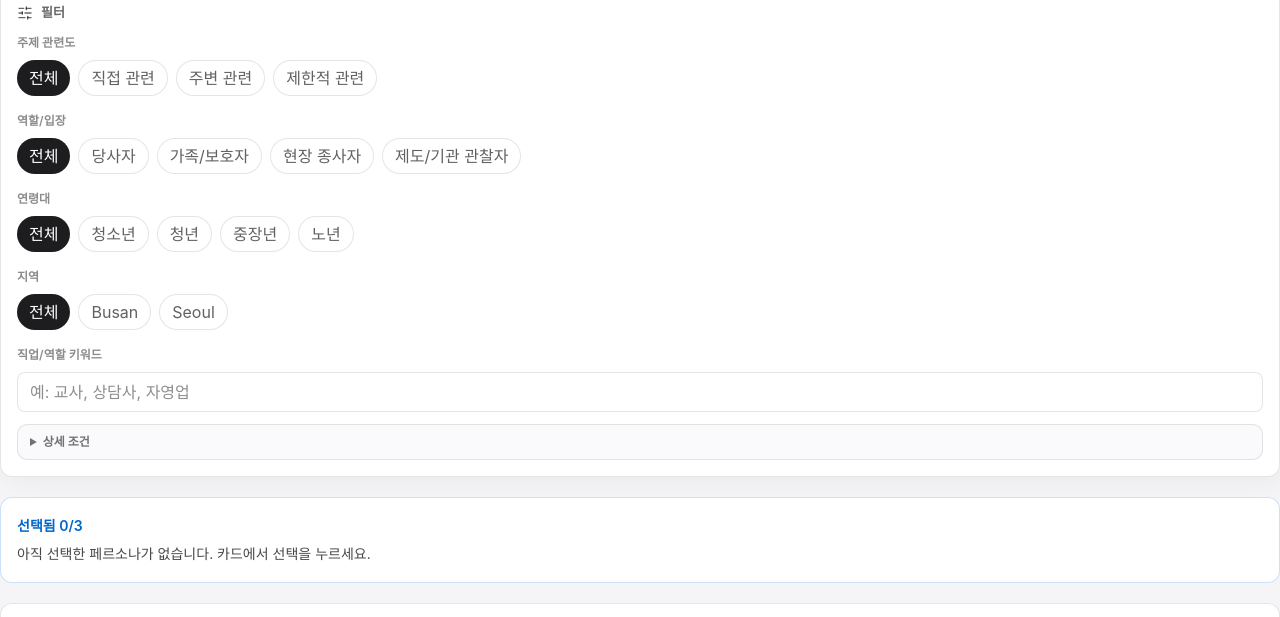
Test: offers full-index persona search only after filters are targeted enough for the live index
The image size is (1280, 617).
In the field with placeholder "예: 교사, 상담사, 자영업": coordinates (640, 392) [17,372,1263,412], type "teacher"
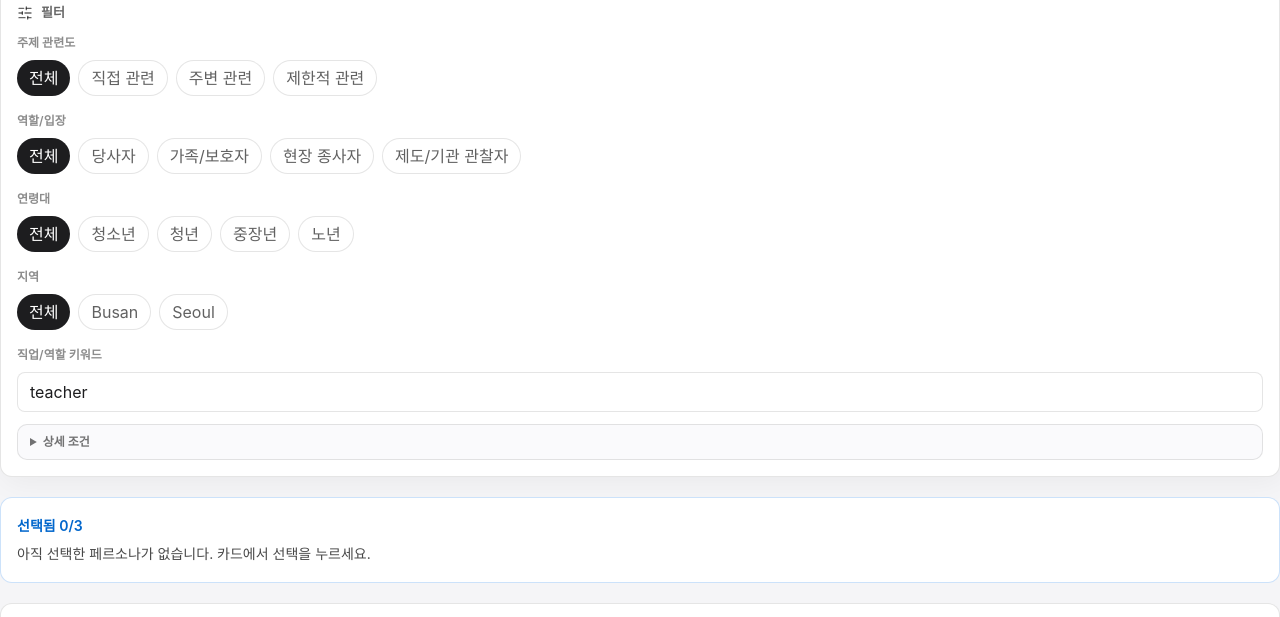
Expected: the button "전체 색인에서 더 찾아보기" is not shown
Click the button "청년": coordinates (184, 234) [157,216,212,252]
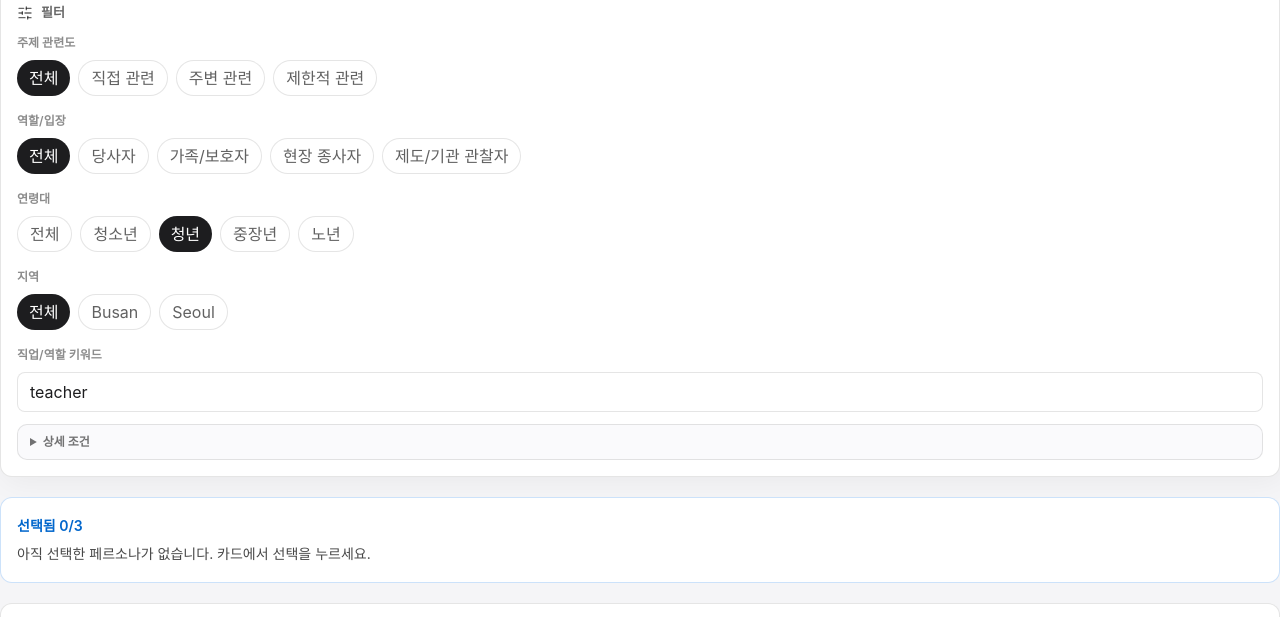
Click the button "Seoul": coordinates (194, 312) [159,294,228,330]
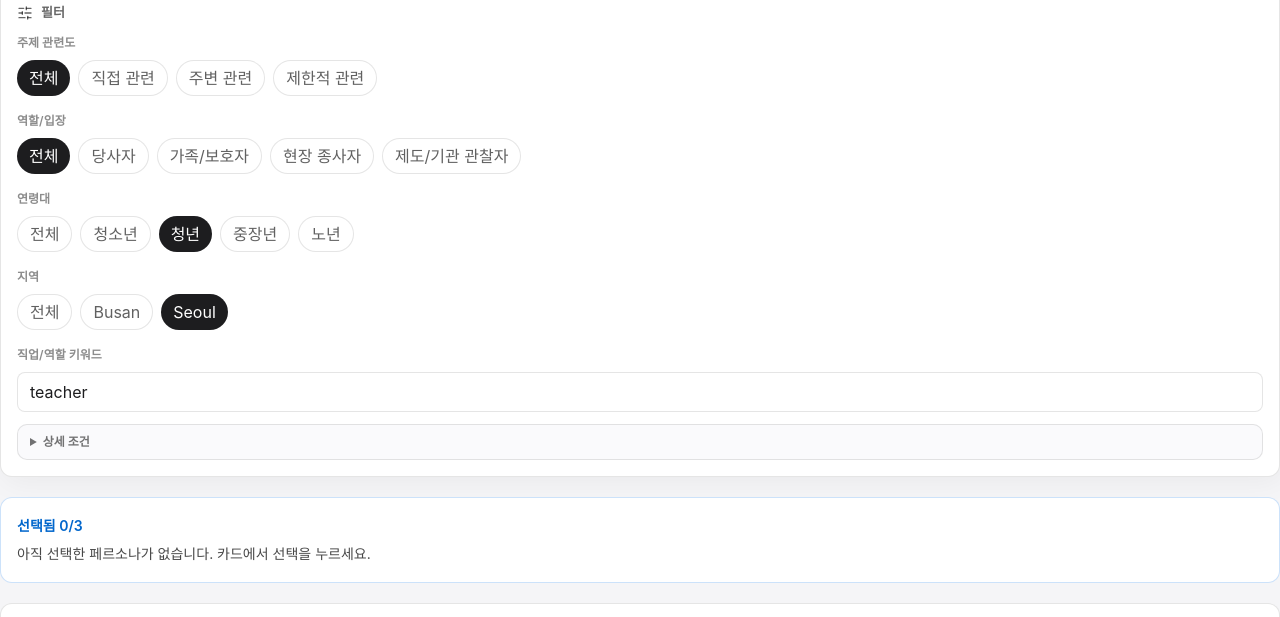
Click the heading "상세 조건": coordinates (66, 442) [43,434,90,449]
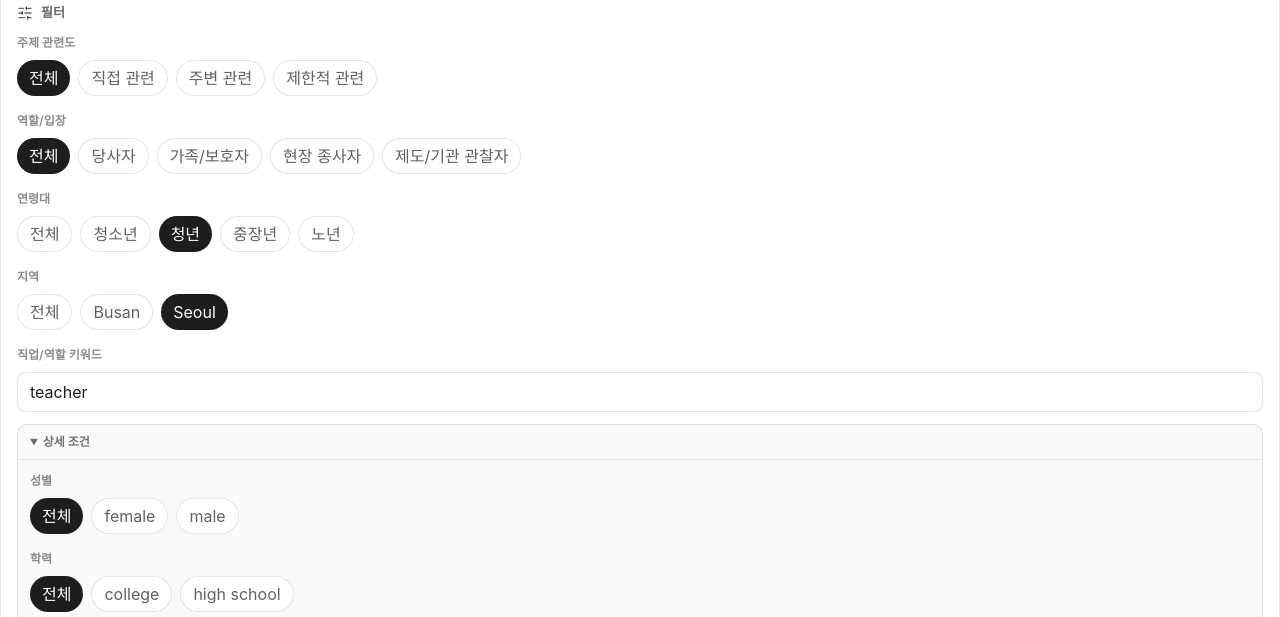
Click the button "female": coordinates (130, 516) [92,498,168,534]
(page scrolled)
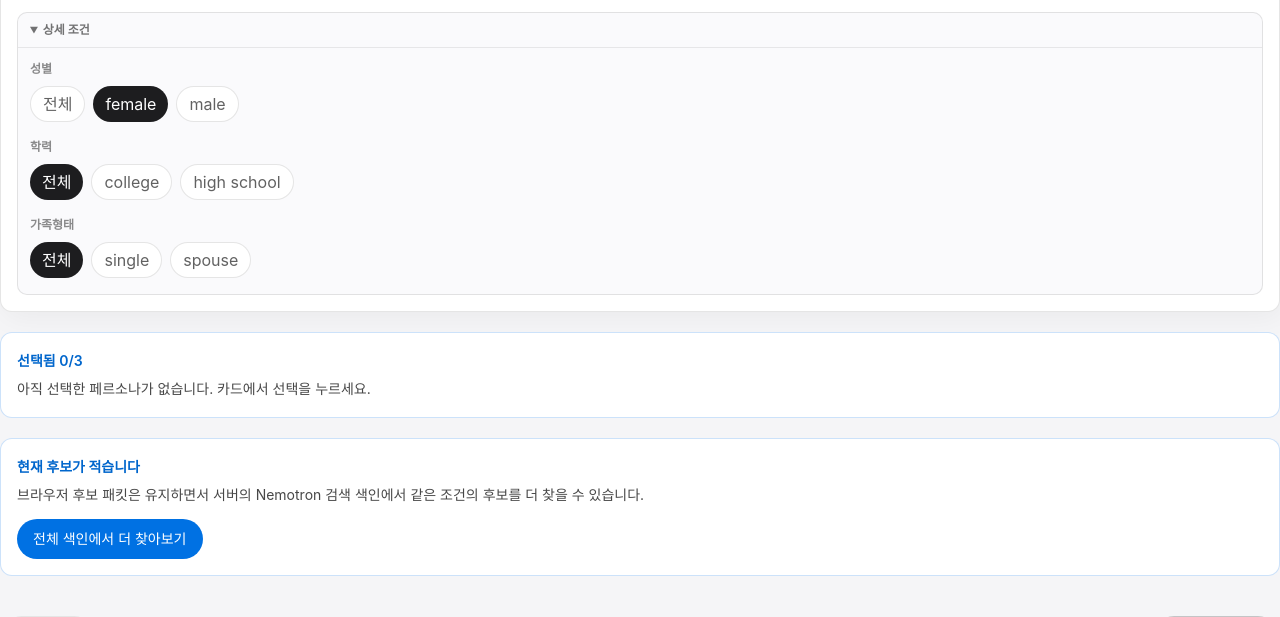
Click the button "전체 색인에서 더 찾아보기": coordinates (110, 539) [17,519,202,559]
(page scrolled)
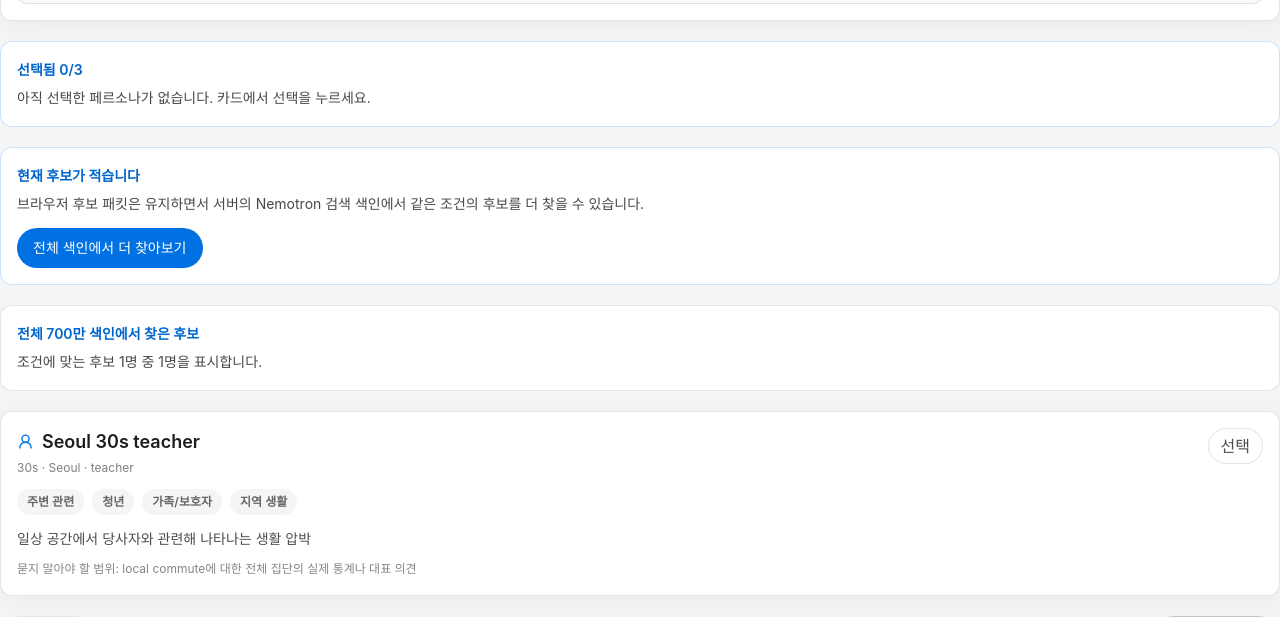
Expected: the text "전체 700만 색인에서 찾은 후보" is shown, [17,325,199,342]
Expected: the heading "Seoul 30s teacher" is shown, [42,428,200,455]
